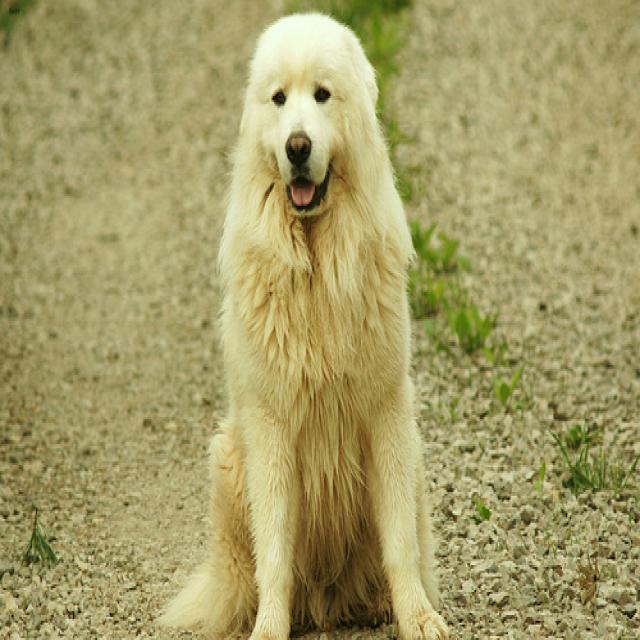dog-great_pyrenees: (148, 8, 456, 636)
